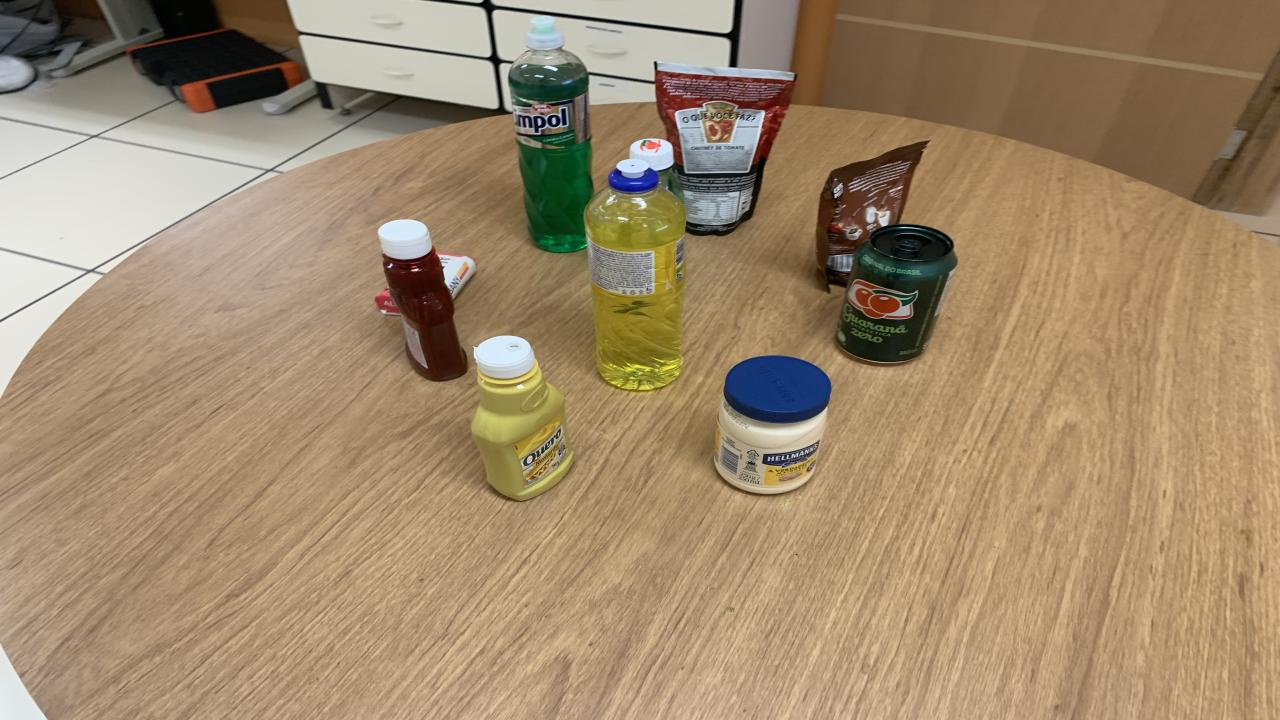Coffee-Pantry_Items: (815, 141, 928, 285)
Detergent-Cleanup_Items: (585, 159, 685, 390), (508, 47, 592, 253), (528, 15, 562, 45)
Guarana-Drinks: (630, 139, 682, 201)
Guarana_Can-Drinks: (838, 225, 958, 364)
Ketchup-Pantry_Items: (378, 219, 468, 381)
Mayonnaise-Pantry_Items: (715, 354, 830, 495)
Mustard-Pantry_Items: (472, 336, 572, 501)
Soap-Cleanup_Items: (438, 253, 475, 298), (375, 291, 400, 315)
Tomato_Sauce-Pantry_Items: (655, 62, 795, 234)
